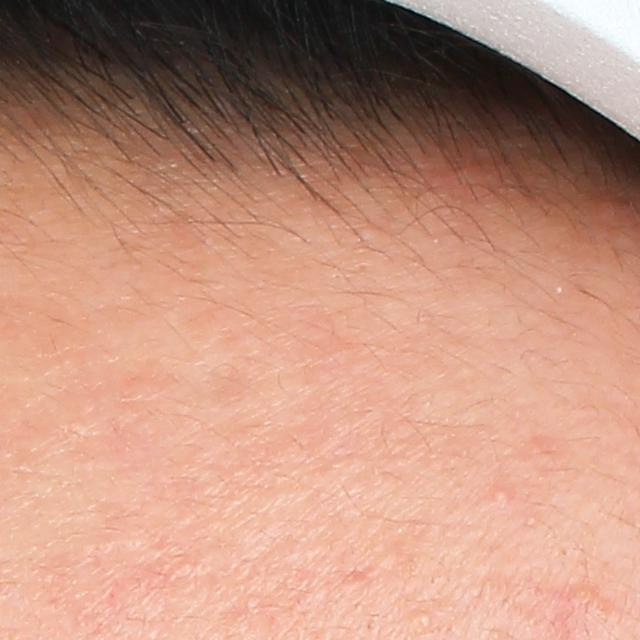comedo: (488, 487, 514, 512), (416, 610, 434, 629)
